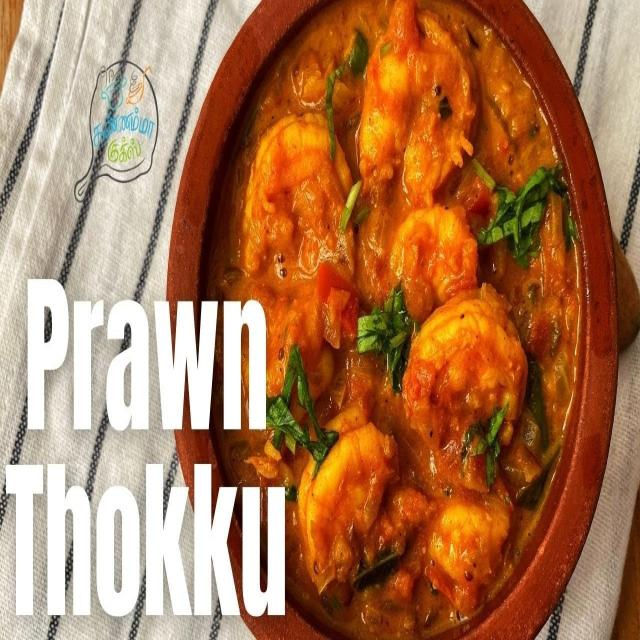prawn thokku: (253, 32, 522, 622)
